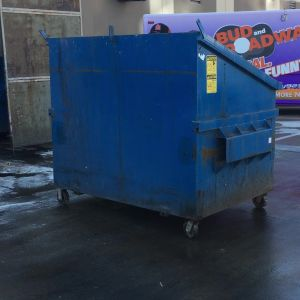Dumpster: (38, 26, 286, 238)
